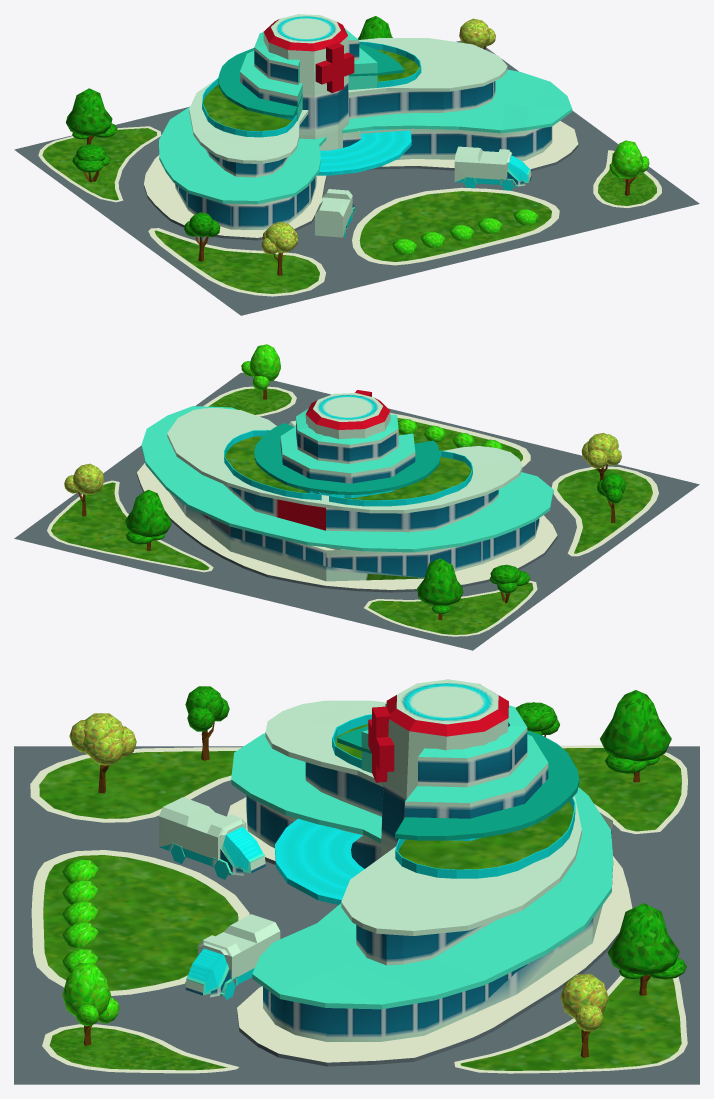
File: hospital_LV1.fbx
3 views of the same model, one above another, from view 1: azimuth 30°, elevation 25°; view 2: azimuth 150°, elevation 25°; view 3: azimuth 270°, elevation 25° (orthographic). The views are drawn at different scales.
Parts seen in each view (by area): view 1: hospital 1; view 2: hospital 1; view 3: hospital 1.
Part boxes in pixels (box(x1,y1,x2,y2)): hospital 1: box(14, 14, 699, 315); hospital 1: box(14, 344, 699, 650); hospital 1: box(14, 679, 699, 1084).
Bounding box in the file's own units: 140 × 39.47 × 120.
